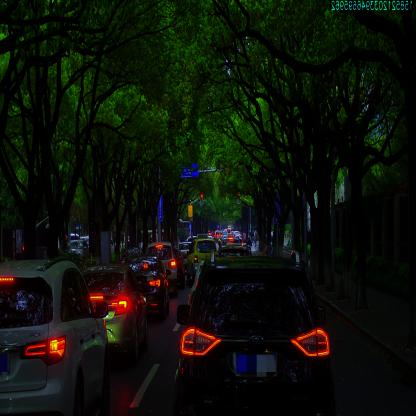traffic-light: (200, 192, 204, 205), (238, 192, 241, 204)
